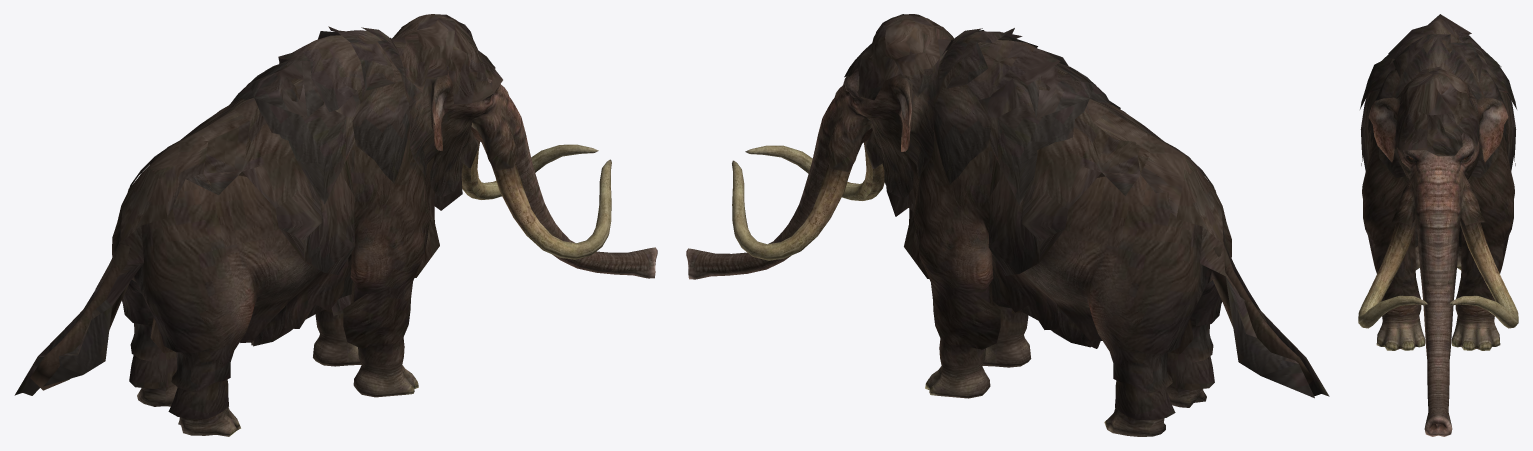
The model's file is mammoth.fbx.
3 renders of one model, left to right at view 1: azimuth 30°, elevation 25°; view 2: azimuth 150°, elevation 25°; view 3: azimuth 270°, elevation 25°, orthographic. The views are drawn at different scales.
Visible parts, largest first — view 1: mammoth; view 2: mammoth; view 3: mammoth.
Part boxes in pixels (x1,y1,x2,y2): mammoth: [14, 14, 657, 436]; mammoth: [686, 14, 1329, 436]; mammoth: [1358, 14, 1518, 436].
Bounding box in the file's own units: 580 × 306 × 143.
1 material, 1 textured.
